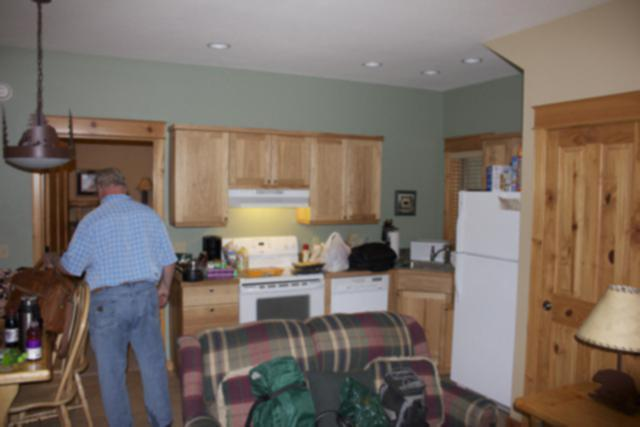Lavaplatos: (394, 239, 459, 273)
Otro Obstaculo: (236, 353, 320, 426), (323, 375, 402, 426), (383, 358, 435, 426)
